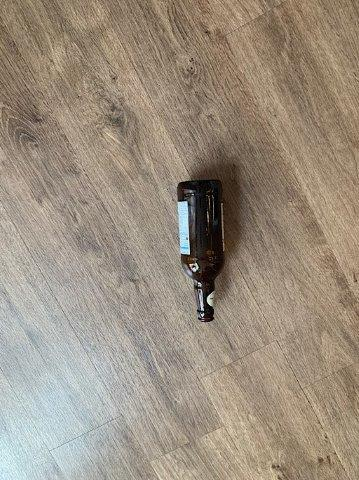botolkaca: (178, 180, 224, 320)
